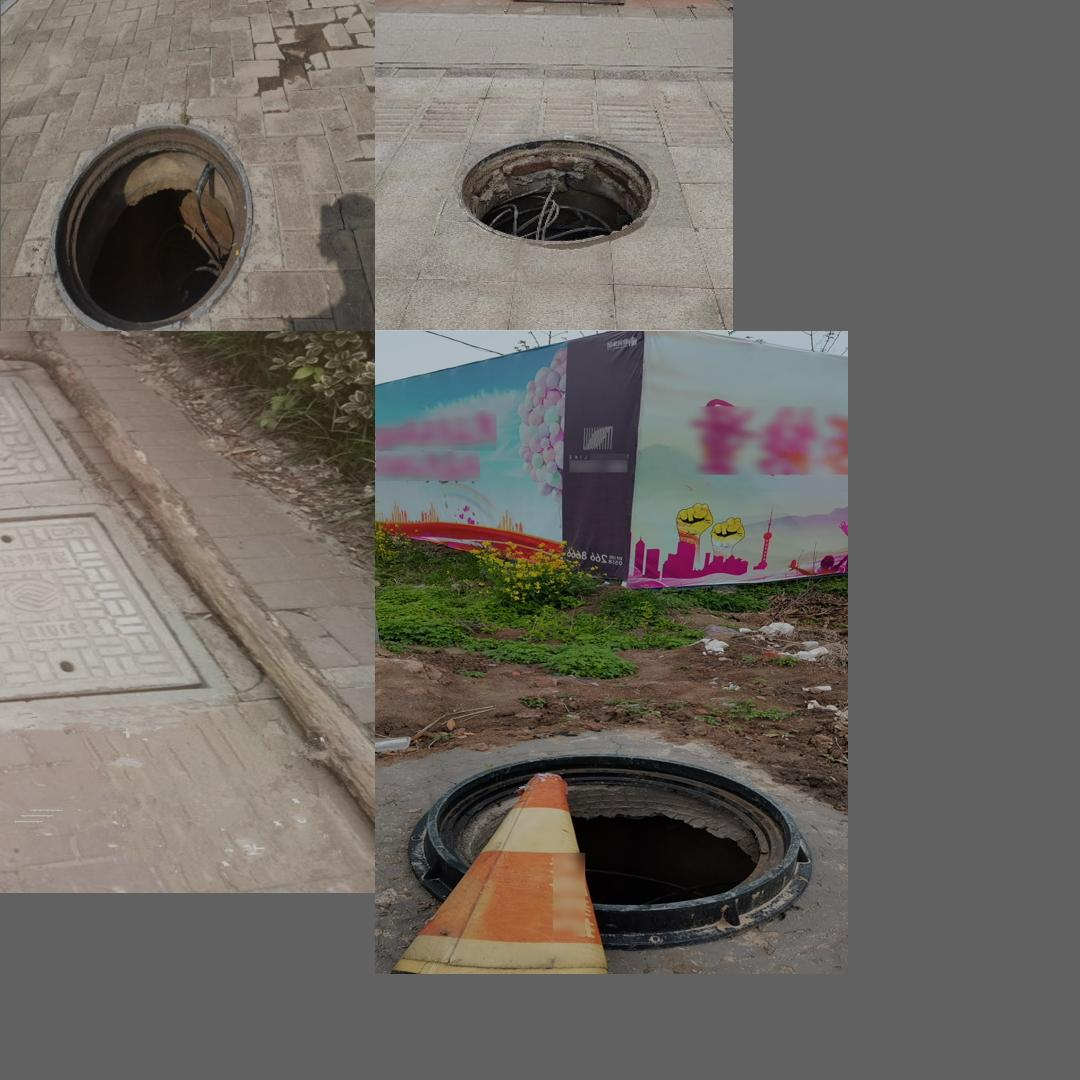good: (0, 369, 86, 523)
lose: (407, 752, 808, 953), (0, 503, 233, 747), (43, 127, 271, 328), (445, 127, 676, 251)
